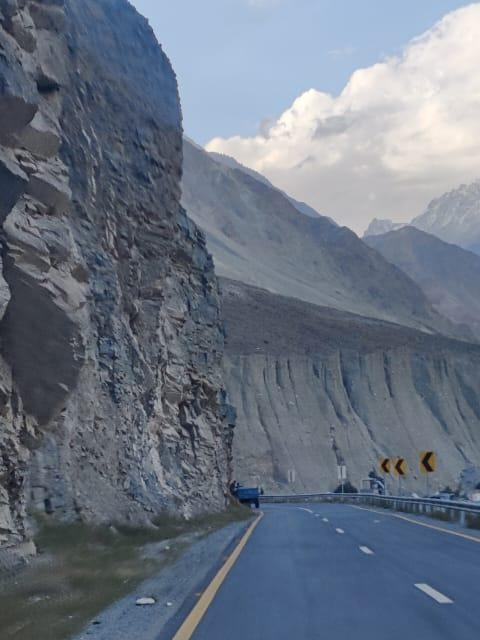left_turn: (224, 473, 364, 532), (419, 446, 437, 473), (392, 453, 408, 474), (379, 456, 391, 474)
